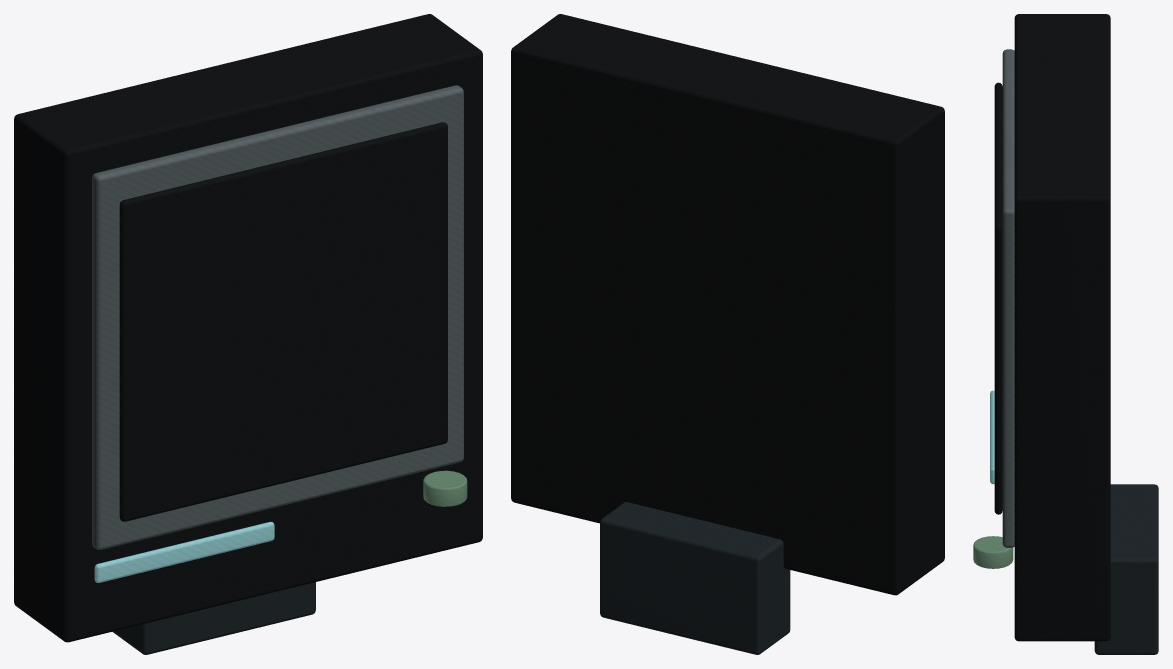
File: WallMonitor.glb
3 renders of one model, left to right at view 1: azimuth 30°, elevation 25°; view 2: azimuth 150°, elevation 25°; view 3: azimuth 270°, elevation 25°, orthographic. The views are drawn at different scales.
Visible parts, largest first — view 1: WallMonitor_Mesh; view 2: WallMonitor_Mesh; view 3: WallMonitor_Mesh.
Part boxes in pixels (box(x1,y1,x2,y2)): WallMonitor_Mesh: box(14, 14, 482, 654); WallMonitor_Mesh: box(511, 14, 944, 654); WallMonitor_Mesh: box(973, 14, 1158, 654).
Bounding box in the file's own units: 0.82 × 1.06 × 0.3475.
5 materials, 5 textured.
